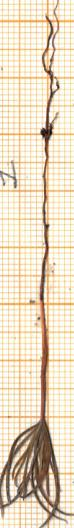flower: (0, 411, 71, 528)
root: (33, 1, 61, 299)
stem: (35, 299, 55, 417)
